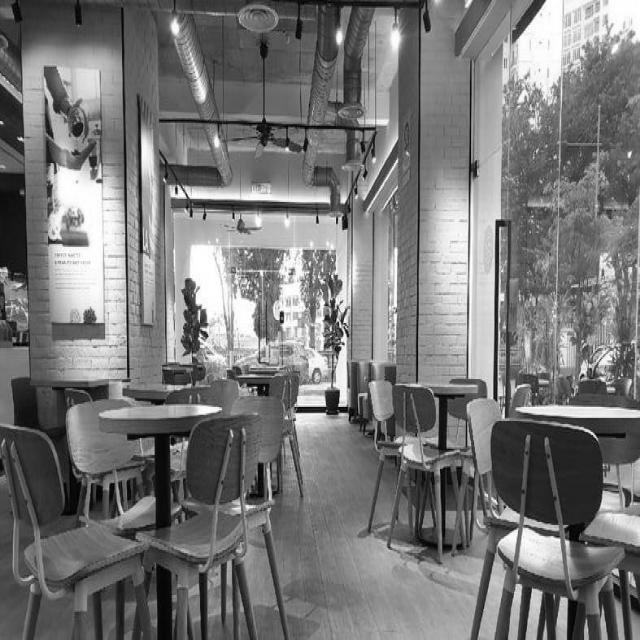table: (496, 360, 636, 484), (90, 378, 235, 472), (384, 352, 478, 434), (223, 332, 307, 412)
